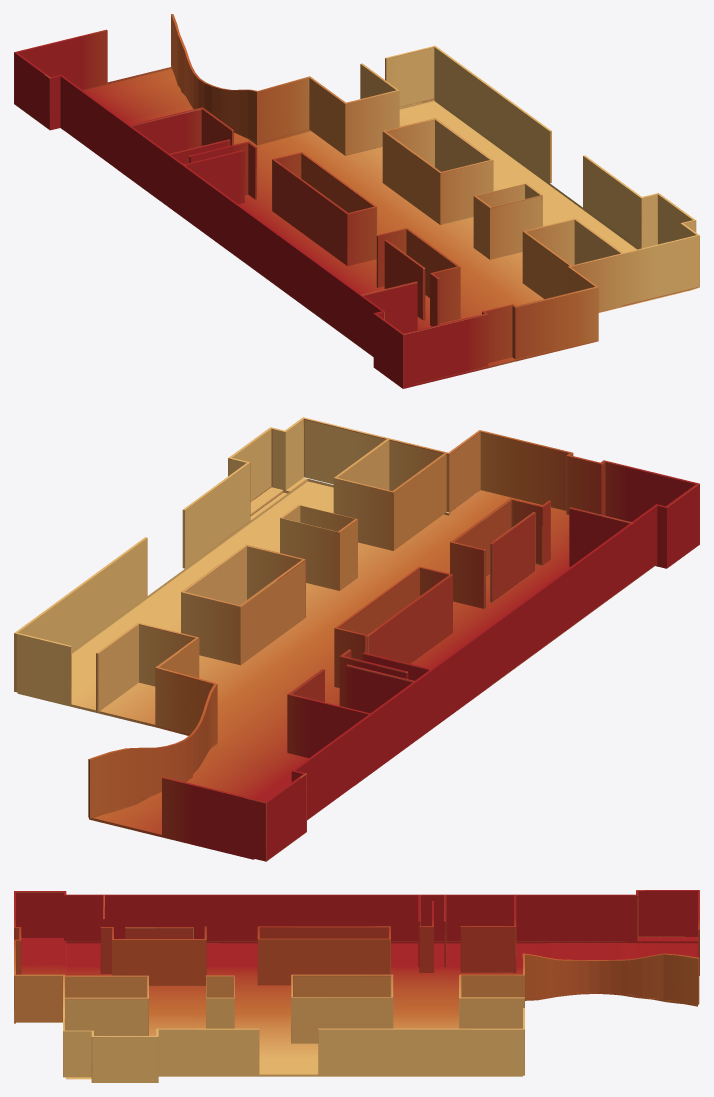
Rendered from museum floor.fbx.
3 views of the same model, one above another, from view 1: azimuth 30°, elevation 25°; view 2: azimuth 150°, elevation 25°; view 3: azimuth 270°, elevation 25° (orthographic). The views are drawn at different scales.
Visible parts, largest first — view 1: Cube; view 2: Cube; view 3: Cube.
Part boxes in pixels (<box>): Cube: <box>14,14,699,388</box>; Cube: <box>14,417,699,861</box>; Cube: <box>14,890,699,1082</box>.
Bounding box in the file's own units: 32613 × 5072 × 64400.
